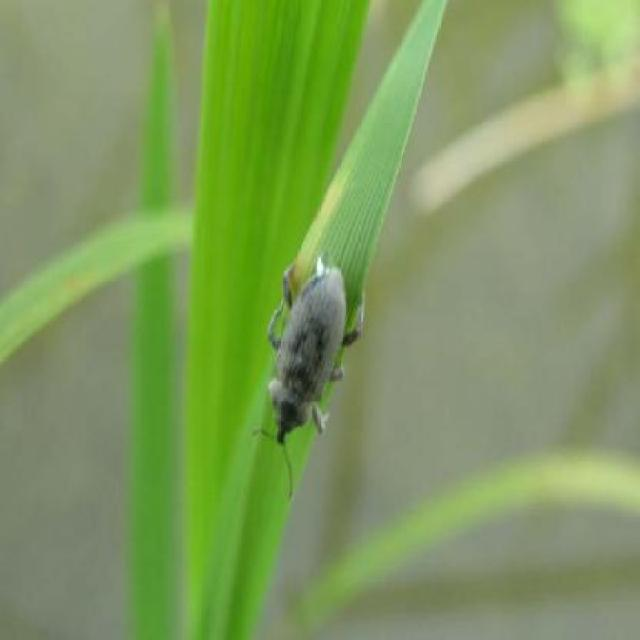rice-bug: (262, 252, 366, 452)
